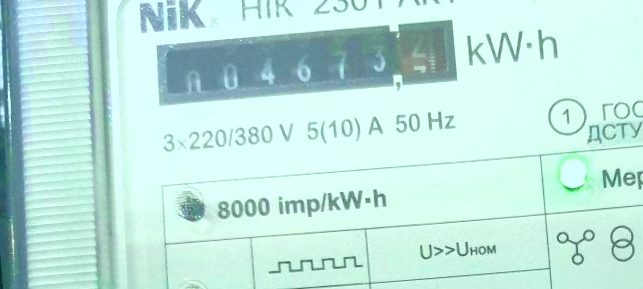0: (218, 59, 239, 92), (181, 65, 203, 96)
2: (405, 27, 428, 61)
3: (367, 40, 387, 75)
4: (256, 52, 277, 89)
6: (290, 49, 314, 85)
7: (328, 46, 353, 85)
screen: (148, 14, 463, 116)
